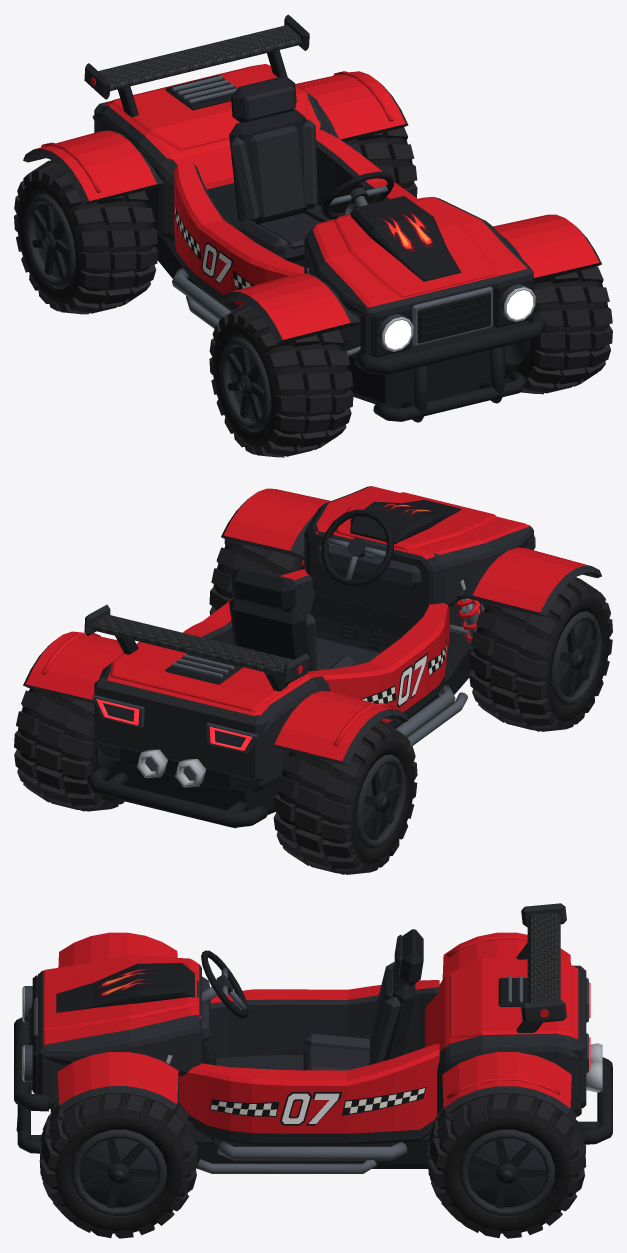
Rendered from OffroadKart_Connected.glb.
The picture shows the model from 3 angles, top to bottom: view 1: azimuth 30°, elevation 25°; view 2: azimuth 150°, elevation 25°; view 3: azimuth 270°, elevation 25°; orthographic projection.
Visible parts, largest first — view 1: Wheel_FR, Wheel_RR, Wheel_FL, Right_Integrated_Sidepod, Front_Hood, Rear_Engine_Deck, Undercarriage, Rear_Red_Deck, Right_Rear_Fender, Right_Front_Fender, Racing_Red_Hood_Stripe, Spoiler_Red_Airfoil (+29 smaller); view 2: Wheel_FR, Wheel_RR, Front_Hood, Rear_CharcoalFascia, Wheel_RL, Right_Integrated_Sidepod, Right_Rear_Fender, Right_Front_Fender, Rear_Red_Deck, Left_Front_Fender, Undercarriage, Left_Rear_Fender (+22 smaller); view 3: Wheel_FL, Wheel_RL, Left_Integrated_Sidepod, Right_Integrated_Sidepod, Front_Hood, Rear_Red_Deck, Rear_Engine_Deck, Left_Rear_Fender, Left_Front_Fender, Charcoal_Center_Cowl, Racing_Red_Hood_Stripe, RaceLivery_Left (+24 smaller).
Boxes of the visible parts, bbox=[...] form: Wheel_FR: bbox=[209, 303, 353, 457]; Wheel_RR: bbox=[14, 160, 157, 314]; Wheel_FL: bbox=[504, 267, 612, 394]; Right_Integrated_Sidepod: bbox=[174, 162, 304, 310]; Front_Hood: bbox=[304, 196, 531, 317]; Rear_Engine_Deck: bbox=[94, 85, 329, 242]; Undercarriage: bbox=[154, 233, 505, 408]; Rear_Red_Deck: bbox=[110, 64, 307, 150]; Right_Rear_Fender: bbox=[23, 130, 163, 204]; Right_Front_Fender: bbox=[221, 273, 359, 343]; Racing_Red_Hood_Stripe: bbox=[334, 200, 496, 297]; Spoiler_Red_Airfoil: bbox=[98, 25, 301, 91]; Wheel_FR: bbox=[469, 577, 612, 731]; Wheel_RR: bbox=[273, 720, 417, 874]; Front_Hood: bbox=[304, 486, 532, 619]; Rear_CharcoalFascia: bbox=[94, 676, 267, 781]; Wheel_RL: bbox=[14, 688, 124, 811]; Right_Integrated_Sidepod: bbox=[312, 603, 449, 728]; Right_Rear_Fender: bbox=[270, 690, 408, 765]; Right_Front_Fender: bbox=[463, 547, 601, 616]; Rear_Red_Deck: bbox=[110, 642, 307, 711]; Left_Front_Fender: bbox=[221, 488, 330, 557]; Undercarriage: bbox=[118, 601, 484, 828]; Left_Rear_Fender: bbox=[23, 631, 123, 703]; Wheel_FL: bbox=[39, 1094, 197, 1238]; Wheel_RL: bbox=[428, 1094, 586, 1238]; Left_Integrated_Sidepod: bbox=[179, 1043, 439, 1144]; Right_Integrated_Sidepod: bbox=[204, 980, 439, 1058]; Front_Hood: bbox=[43, 955, 201, 1077]; Rear_Red_Deck: bbox=[450, 957, 573, 1037]; Rear_Engine_Deck: bbox=[424, 964, 581, 1116]; Left_Rear_Fender: bbox=[442, 1051, 571, 1114]; Left_Front_Fender: bbox=[58, 1051, 178, 1111]; Charcoal_Center_Cowl: bbox=[56, 963, 194, 1012]; Racing_Red_Hood_Stripe: bbox=[43, 964, 196, 1030]; RaceLivery_Left: bbox=[209, 1087, 426, 1125].
Size of the model in its own units: 7.77 by 4.96 by 11.97.
5 materials, 5 textured.
